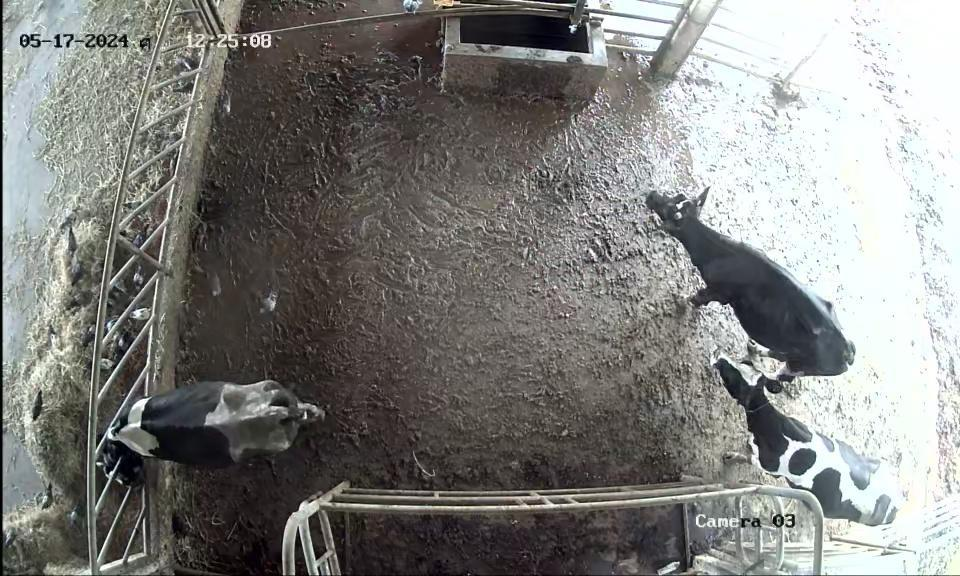eat: (72, 403, 174, 495)
stand: (638, 176, 864, 385), (704, 347, 902, 532)
